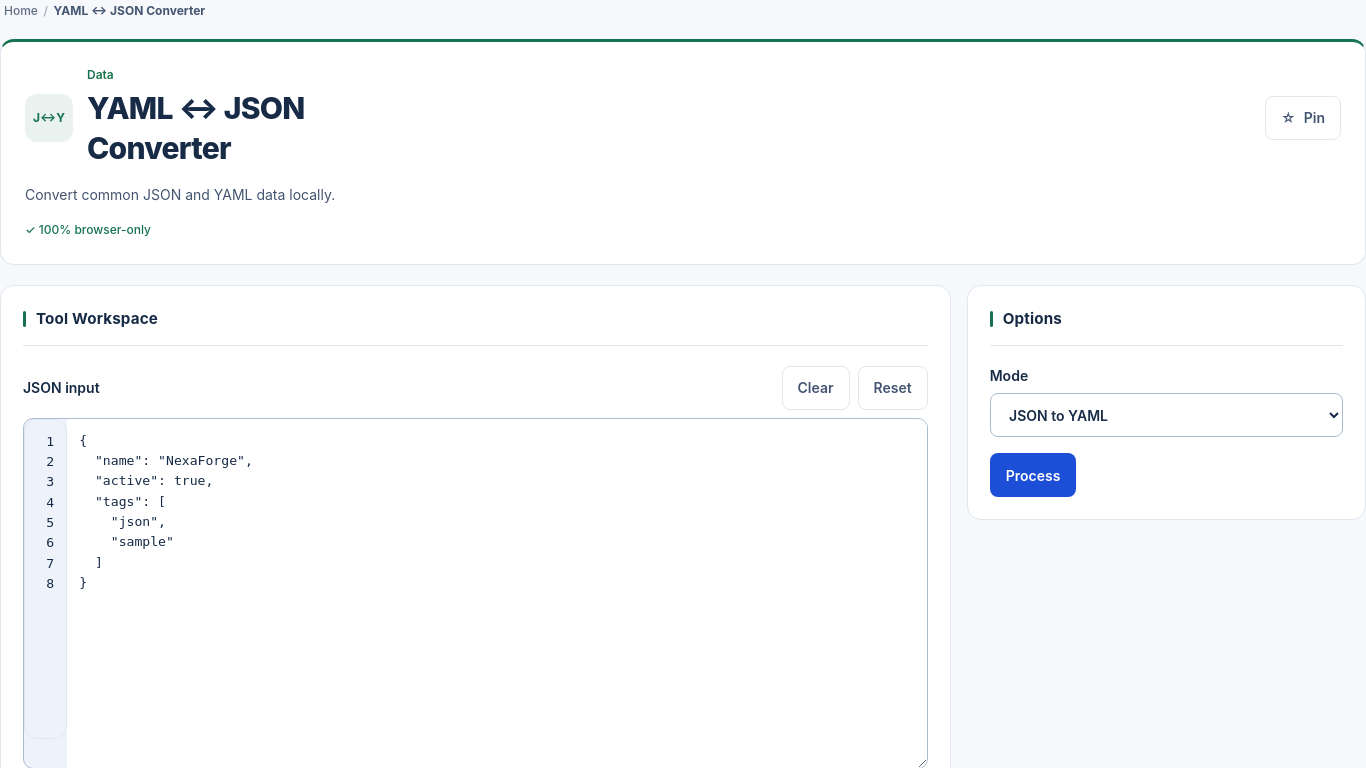
DeveloperToolsPage JSON samples › starts JSON to YAML with a processable JSON sample
The width and height of the screenshot is (1366, 768).
Click the button "Process".
click(1033, 475)  # box x1=990 y1=453 x2=1076 y2=497
(page scrolled)
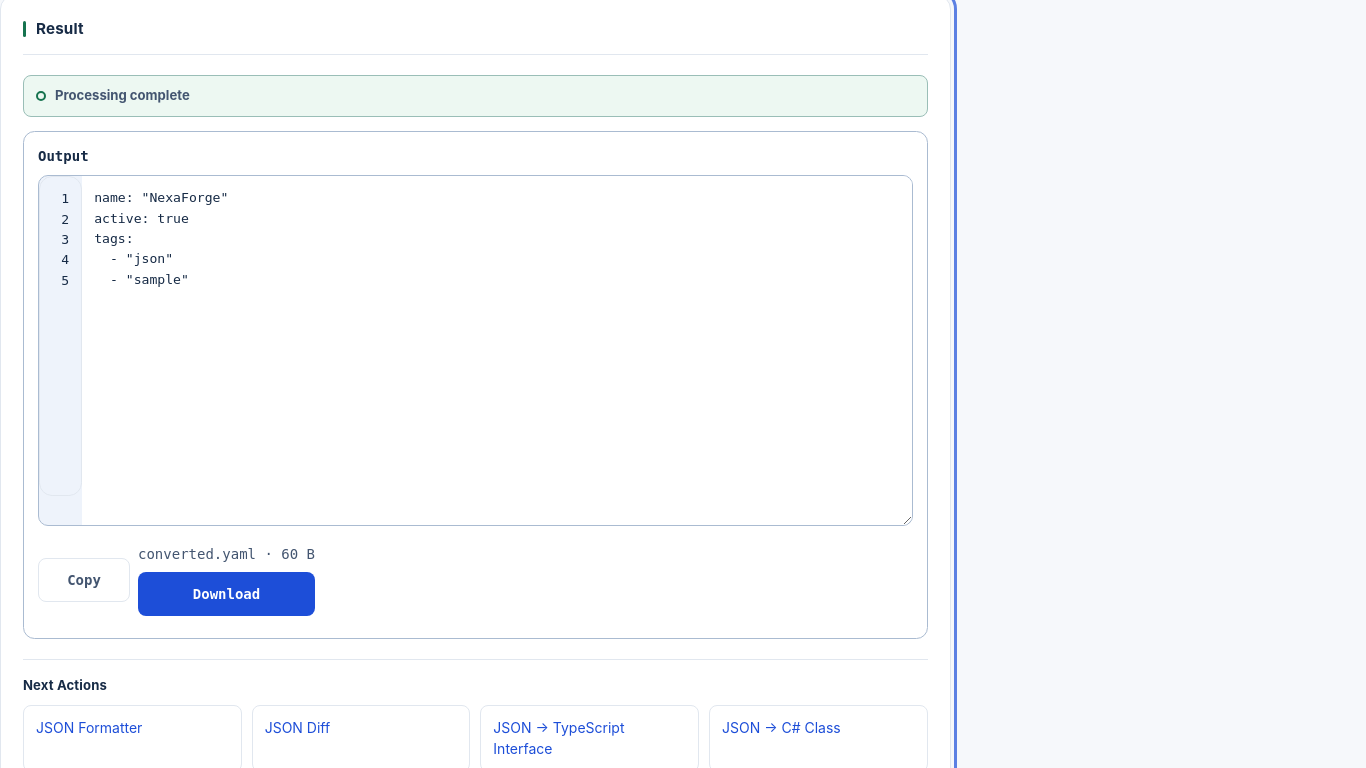
Expected: the element with class "developer-output" is not empty, x1=23 y1=130 x2=928 y2=639
